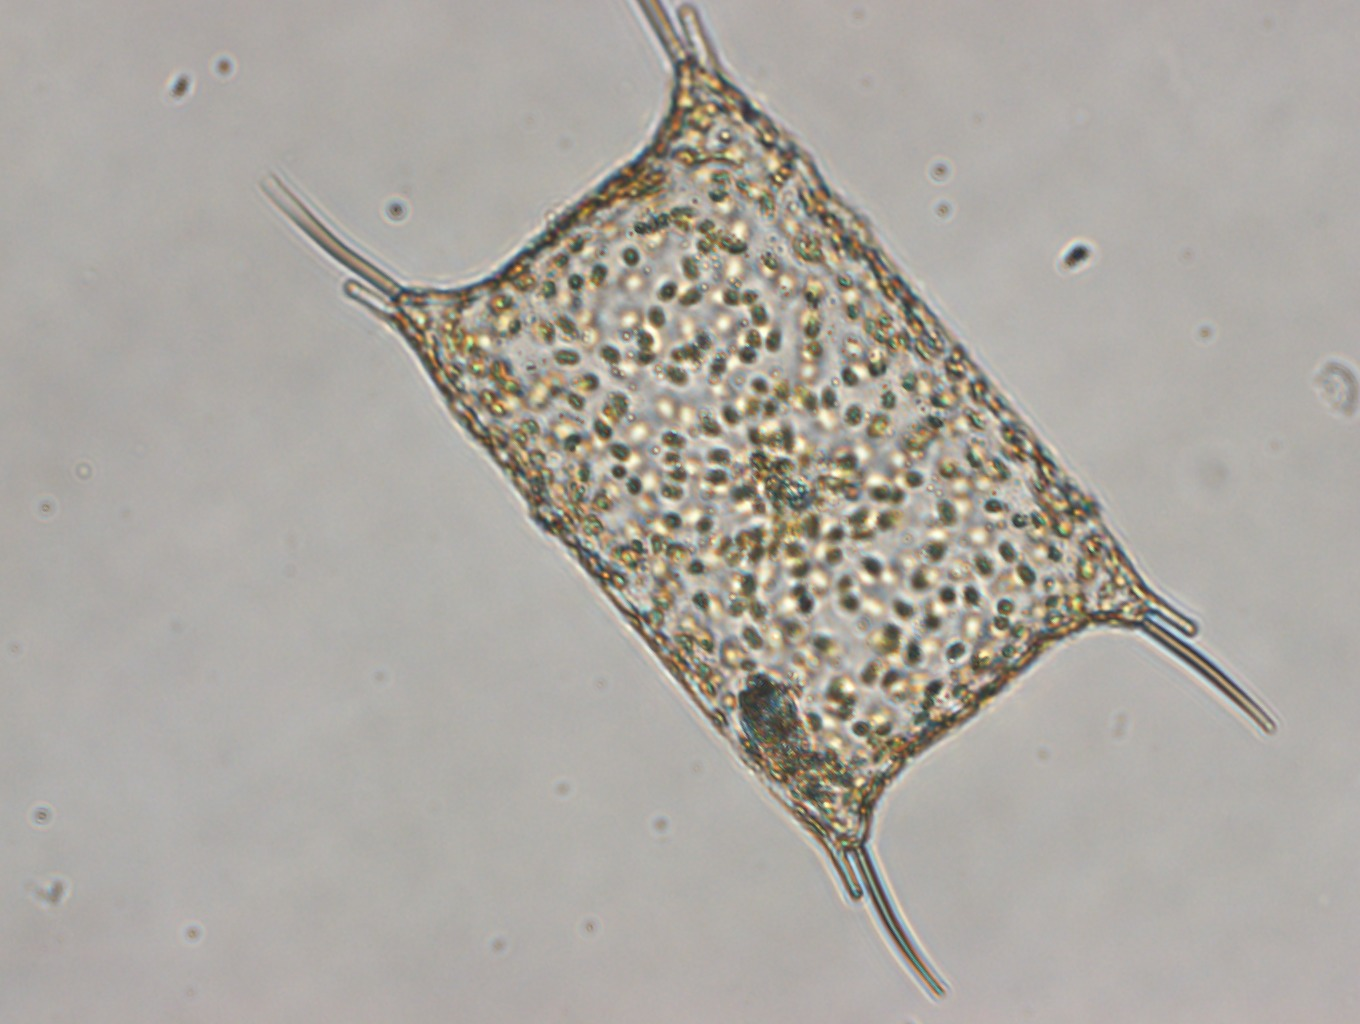biddulphia: (263, 1, 1280, 1001)
